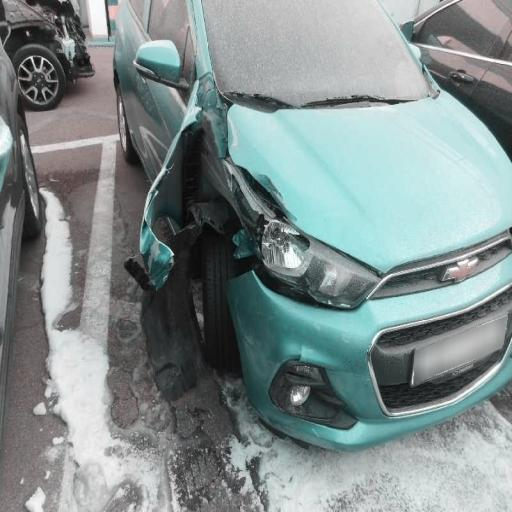dent: (145, 88, 393, 512)
